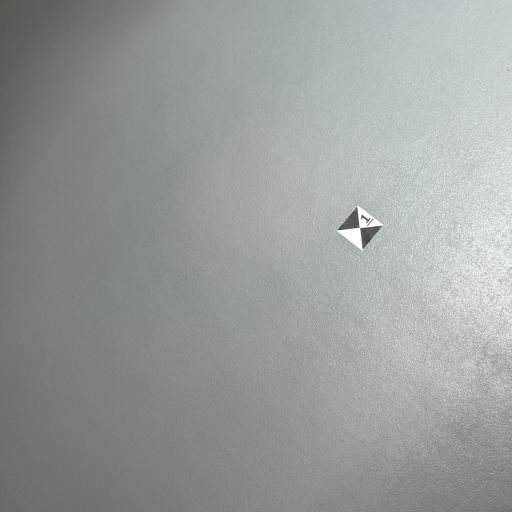target1: (336, 202, 387, 250)
